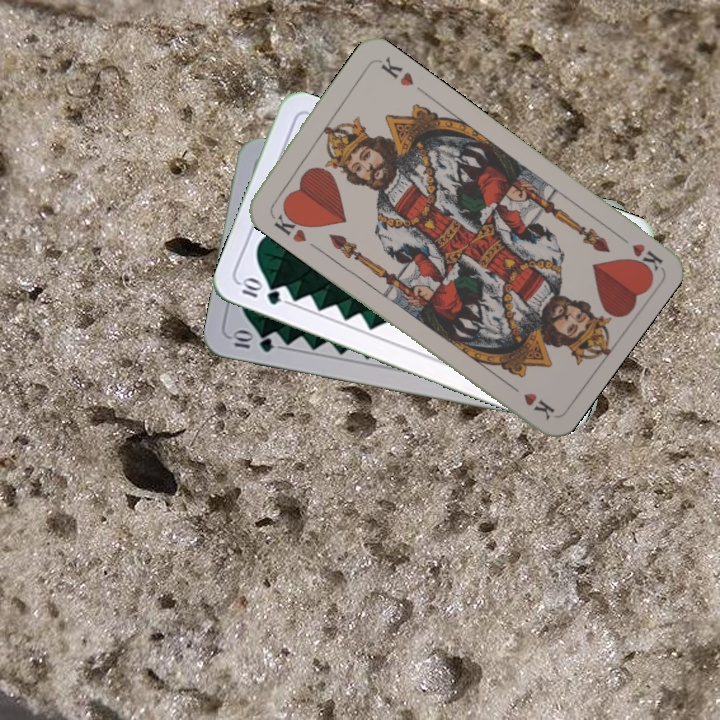G10: (236, 275, 284, 308), (229, 328, 276, 355)
HK: (611, 228, 665, 276), (266, 204, 311, 245)
